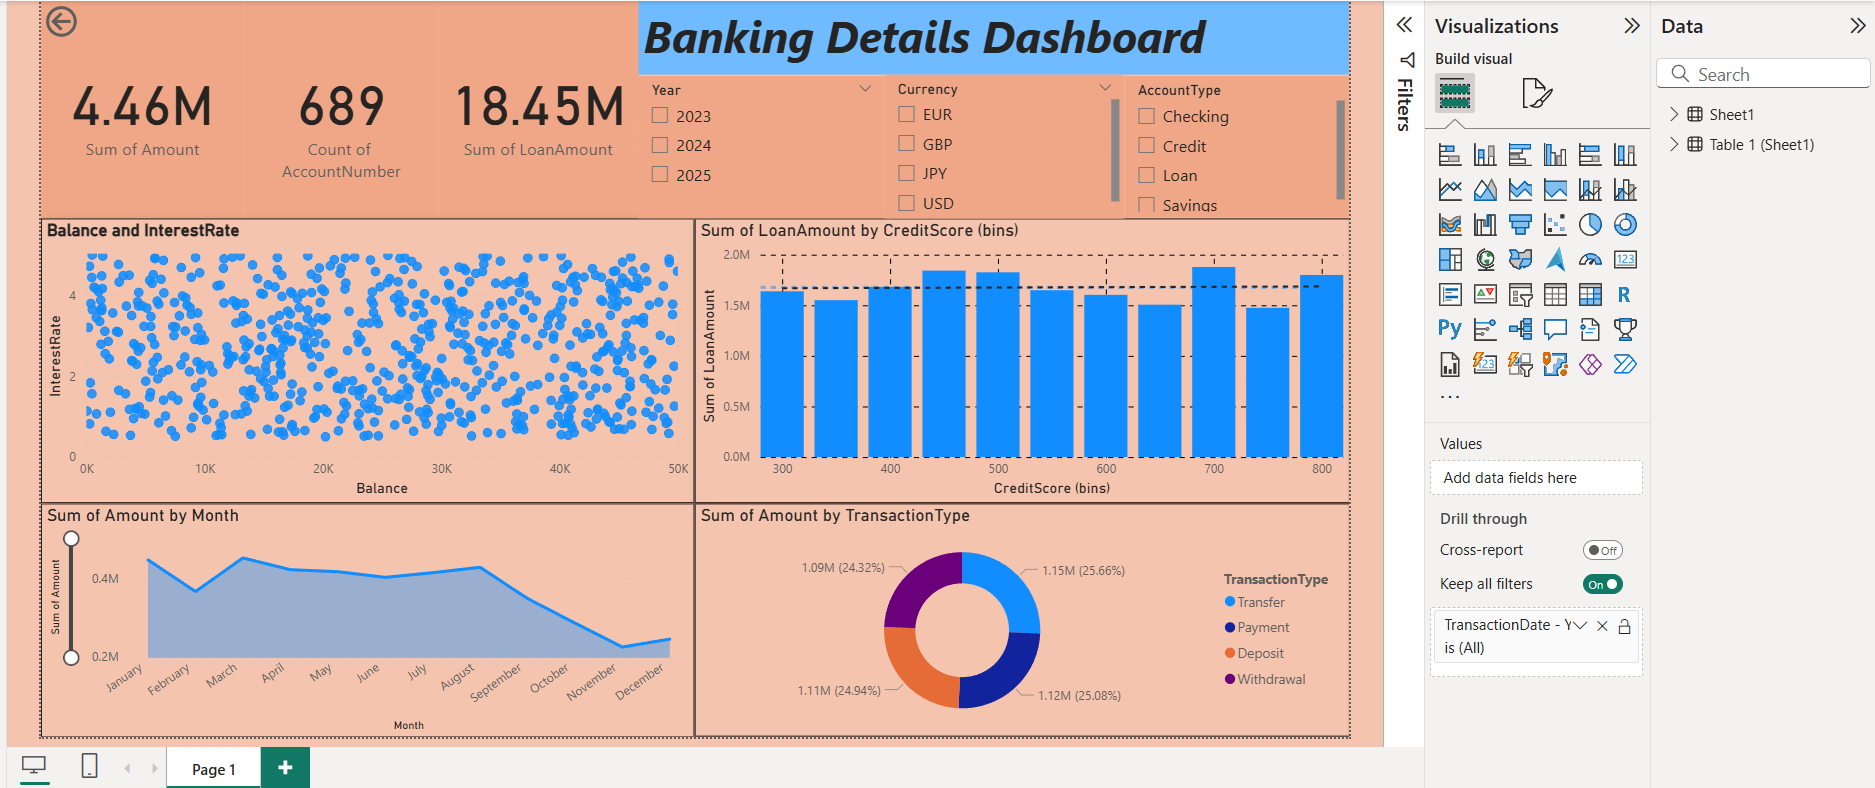

The dashboard page shown, as its layout file describes it:
{"tool":"powerbi","page":{"name":"Page 1","canvas":[1280,720],"ordinal":0},"visuals":[{"type":"card","fields":{"Values":["Sum(Sheet1.Amount)"]},"box":[0,0,199.3,212.8],"z":0},{"type":"card","fields":{"Values":["CountNonNull(Table 1 (Sheet1).AccountNumber)"]},"box":[199.3,0,189.5,212.8],"z":1},{"type":"card","fields":{"Values":["Sum(Table 1 (Sheet1).LoanAmount)"]},"box":[388.9,0,195.7,212.8],"z":2},{"type":"textbox","box":[584.5,0,695.8,72.1],"z":3},{"type":"scatterChart","fields":{"X":["Table 1 (Sheet1).Balance"],"Y":["Table 1 (Sheet1).InterestRate"]},"box":[0,212.7,639.5,278.6],"z":4},{"type":"clusteredColumnChart","fields":{"Category":["Table 1 (Sheet1).CreditScore (bins)"],"Y":["Sum(Table 1 (Sheet1).LoanAmount)"]},"box":[639.5,212.7,640.8,278.6],"z":5},{"type":"lineChart","fields":{"Y":["Sum(Sheet1.Amount)"],"Category":["Sheet1.TransactionDate.Variation.Date Hierarchy.Month"]},"box":[0,491.3,639.5,229.2],"z":6},{"type":"donutChart","fields":{"Category":["Sheet1.TransactionType"],"Y":["Sum(Sheet1.Amount)"]},"box":[639,492,641,228],"z":7},{"type":"slicer","fields":{"Values":["Sheet1.Currency"]},"box":[825.4,72.1,234.8,140.6],"z":8},{"type":"slicer","fields":{"Values":["Table 1 (Sheet1).AccountType"]},"box":[1060.2,73.4,220.1,138.2],"z":9},{"type":"actionButton","box":[0,0,100,40],"z":10},{"type":"slicer","fields":{"Values":["Sheet1.TransactionDate.Variation.Date Hierarchy.Year"]},"box":[584.5,73.4,240.9,139.4],"z":11}]}

Visuals, with their boxes on the page's 1280x720 design canvas (x1, y1, x2, y2). These are canvas units, not pixel positions in the 1875x788 screenshot, which may show the page scaled, cropped or inside an application window:
card - Sum(Sheet1.Amount): (0, 0, 199, 213)
card - CountNonNull(Table 1 (Sheet1).AccountNumber): (199, 0, 389, 213)
card - Sum(Table 1 (Sheet1).LoanAmount): (389, 0, 585, 213)
textbox: (584, 0, 1280, 72)
scatterChart - Table 1 (Sheet1).Balance x Table 1 (Sheet1).InterestRate: (0, 213, 640, 491)
clusteredColumnChart - Table 1 (Sheet1).CreditScore (bins) x Sum(Table 1 (Sheet1).LoanAmount): (640, 213, 1280, 491)
lineChart - Sum(Sheet1.Amount) x Sheet1.TransactionDate.Variation.Date Hierarchy.Month: (0, 491, 640, 720)
donutChart - Sheet1.TransactionType x Sum(Sheet1.Amount): (639, 492, 1280, 720)
slicer - Sheet1.Currency: (825, 72, 1060, 213)
slicer - Table 1 (Sheet1).AccountType: (1060, 73, 1280, 212)
actionButton: (0, 0, 100, 40)
slicer - Sheet1.TransactionDate.Variation.Date Hierarchy.Year: (584, 73, 825, 213)
